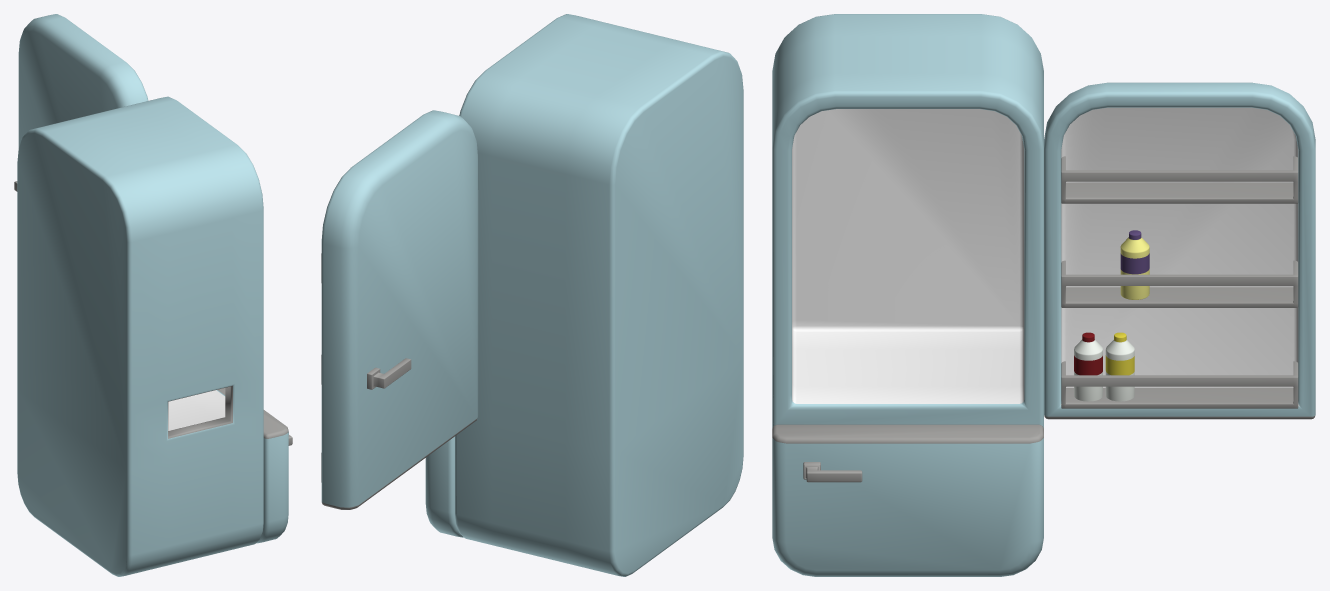
The model's file is lodowkadziura.fbx.
3 renders of one model, left to right at view 1: azimuth 30°, elevation 25°; view 2: azimuth 150°, elevation 25°; view 3: azimuth 270°, elevation 25°, orthographic. The views are drawn at different scales.
Parts seen in each view (by area): view 1: Cube.025, Cube.029, Cube.024; view 2: Cube.025, Cube.029, Cube.024, Cube.045; view 3: Cube.025, Cube.029, Cube.024, Cube.038, Cube.030, Cube.039, Cylinder.014, Cylinder.015, Cylinder.013, Cube.044.
Boxes of the visible parts, box(x1,y1,x2,y2) form: Cube.025: box(17, 96, 263, 576); Cube.029: box(18, 14, 148, 147); Cube.024: box(217, 388, 288, 543); Cube.025: box(455, 14, 743, 576); Cube.029: box(321, 110, 478, 509); Cube.024: box(425, 436, 463, 537); Cube.045: box(367, 358, 411, 389); Cube.025: box(772, 14, 1043, 428); Cube.029: box(1044, 82, 1315, 419); Cube.024: box(772, 424, 1043, 576); Cube.038: box(1061, 156, 1298, 203); Cube.030: box(1061, 260, 1298, 307); Cube.039: box(1061, 361, 1298, 408); Cylinder.014: box(1105, 332, 1134, 401); Cylinder.015: box(1120, 230, 1149, 299); Cylinder.013: box(1074, 332, 1102, 401); Cube.044: box(803, 462, 862, 482).
Size of the model in its own units: 695 by 1460 by 1520.
